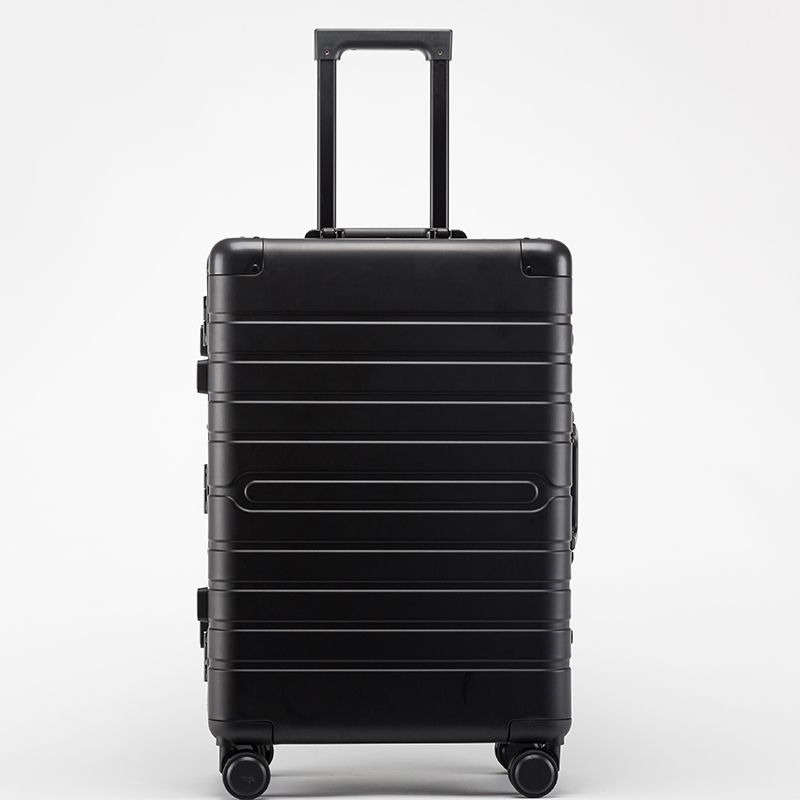box: (208, 235, 573, 745)
wheel: (508, 750, 559, 798), (222, 753, 271, 800)
